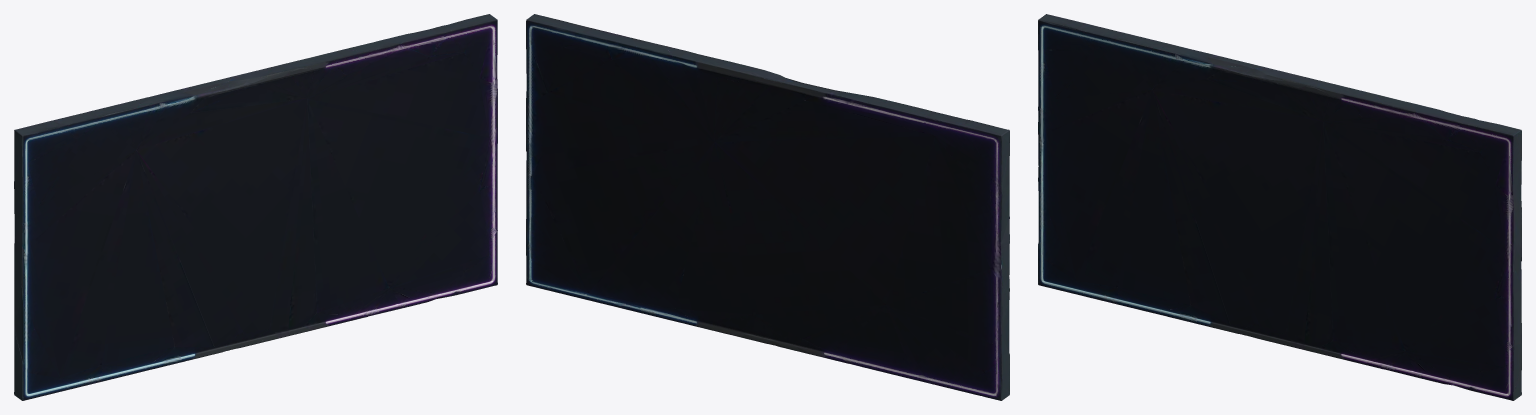
3 renders of one model, left to right at view 1: azimuth 30°, elevation 25°; view 2: azimuth 150°, elevation 25°; view 3: azimuth 330°, elevation 25°, orthographic.
Bounding box in the file's own units: 1.9 × 1.02 × 0.0595.
Materials: 1 (1 with a texture image).
